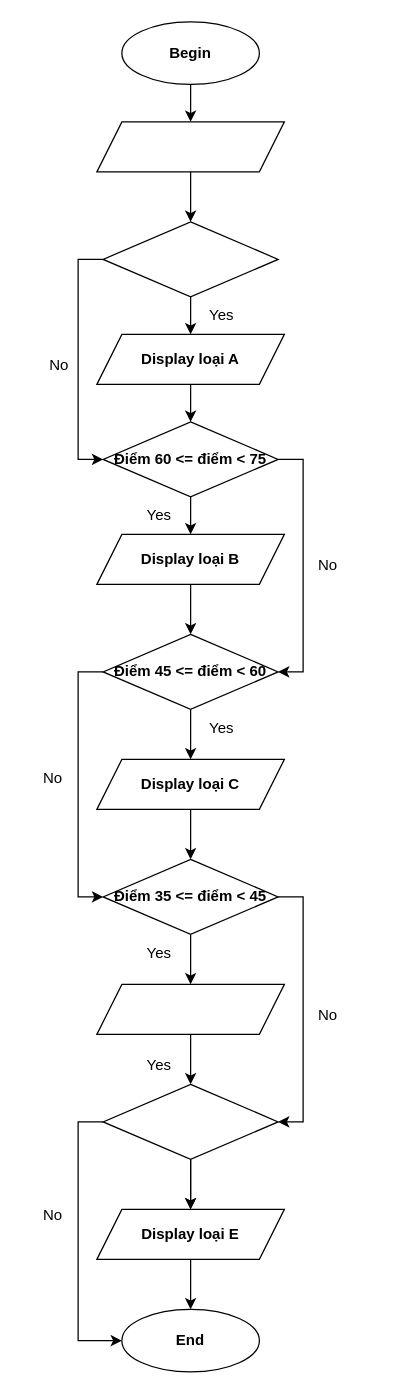
This 393x1394 diagram has some shape labels left out. Each missing label, with the centre of its shape:
Display loại D: point (190, 1008)
Input điểm: point (190, 146)
Điểm < 35: point (190, 1121)
Điểm >=75: point (190, 259)
